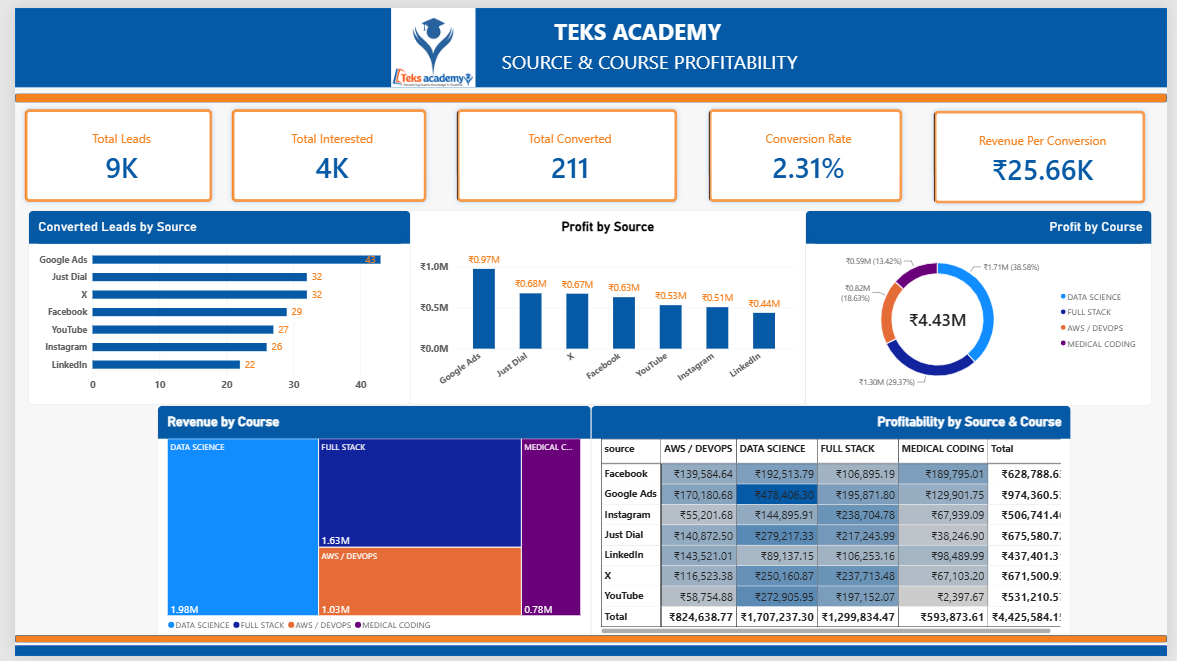

The dashboard page shown, as its layout file describes it:
{"tool":"powerbi","page":{"name":"Page 2","canvas":[1920,1080],"ordinal":1},"visuals":[{"type":"shape","box":[0,0,1920,132.2],"z":0},{"type":"image","box":[557.5,0,279.2,132.2],"z":1000},{"type":"textbox","box":[218,13.6,1651.2,102.2],"z":2000},{"type":"cardVisual","fields":{"Data":["Sum(teks_leads_3_months.interested)"]},"box":[355,177.5,347.5,177.5],"z":3000},{"type":"cardVisual","fields":{"Data":["Sum(teks_leads_3_months.converted)"]},"box":[722.5,175,390,177.5],"z":4000},{"type":"pivotTable","title":"Profitability by Source & Course","fields":{"Columns":["teks_leads_3_months.course"],"Rows":["teks_leads_3_months.source"],"Values":["Sum(teks_leads_3_months.profit)"]},"box":[917.5,682.5,800,397.5],"z":5000},{"type":"treemap","title":"Revenue by Course","fields":{"Group":["teks_leads_3_months.course"],"Values":["Sum(teks_leads_3_months.revenue)"]},"box":[195,682.5,722.5,397.5],"z":6000},{"type":"clusteredColumnChart","title":"Profit by Source","fields":{"Category":["teks_leads_3_months.source"],"Y":["Sum(teks_leads_3_months.profit)"]},"box":[657.5,355,660,325],"z":7000},{"type":"clusteredBarChart","title":"Converted Leads by Source","fields":{"Category":["teks_leads_3_months.source"],"Y":["Sum(teks_leads_3_months.converted)"]},"box":[22.5,355,635,325],"z":8000},{"type":"shape","box":[0,140.2,1919.9,17.3],"z":9000},{"type":"cardVisual","title":"Overall Leads","fields":{"Data":["Sum(teks_leads_3_months.leads)"]},"box":[0,175,335,177.5],"z":10000},{"type":"cardVisual","fields":{"Data":["teks_leads_3_months.Conversion Rate"]},"box":[1145,175,345,177.5],"z":11000},{"type":"cardVisual","fields":{"Data":["teks_leads_3_months.Revenue Per Conversion"]},"box":[1520,175,375,177.5],"z":12000},{"type":"donutChart","title":"Profit by Course","fields":{"Category":["teks_leads_3_months.course"],"Y":["Sum(teks_leads_3_months.profit)"]},"box":[1317.5,355,577.5,325],"z":13000}]}

Visuals, with their boxes in screenshot pixels (x1, y1, x2, y2), scaled from the page's 1920x1080 canvas onto the 1177x661 screenshot:
shape: box=[0, 0, 1176, 81]
image: box=[342, 0, 513, 81]
textbox: box=[134, 8, 1146, 71]
cardVisual - Sum(teks_leads_3_months.interested): box=[218, 109, 431, 217]
cardVisual - Sum(teks_leads_3_months.converted): box=[443, 107, 682, 216]
"Profitability by Source & Course" pivotTable: box=[562, 418, 1053, 660]
"Revenue by Course" treemap: box=[120, 418, 562, 660]
"Profit by Source" clusteredColumnChart: box=[403, 217, 808, 416]
"Converted Leads by Source" clusteredBarChart: box=[14, 217, 403, 416]
shape: box=[0, 86, 1176, 96]
"Overall Leads" cardVisual: box=[0, 107, 205, 216]
cardVisual - teks_leads_3_months.Conversion Rate: box=[702, 107, 913, 216]
cardVisual - teks_leads_3_months.Revenue Per Conversion: box=[932, 107, 1162, 216]
"Profit by Course" donutChart: box=[808, 217, 1162, 416]
